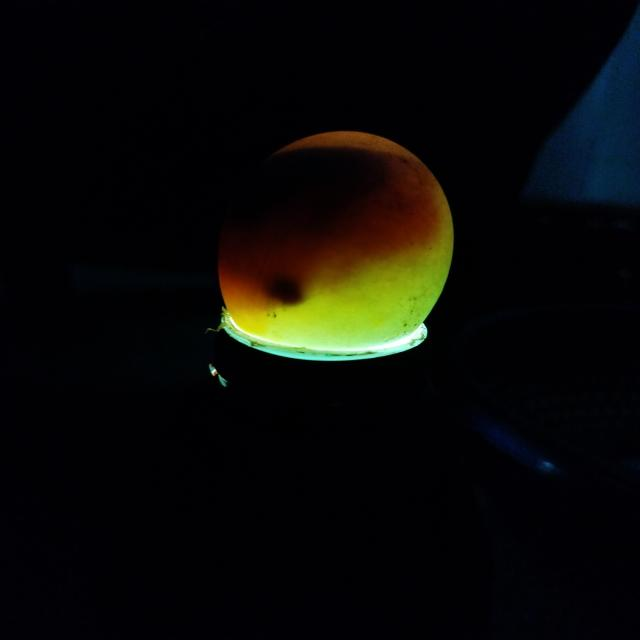Area Infectada: (215, 148, 412, 309)
